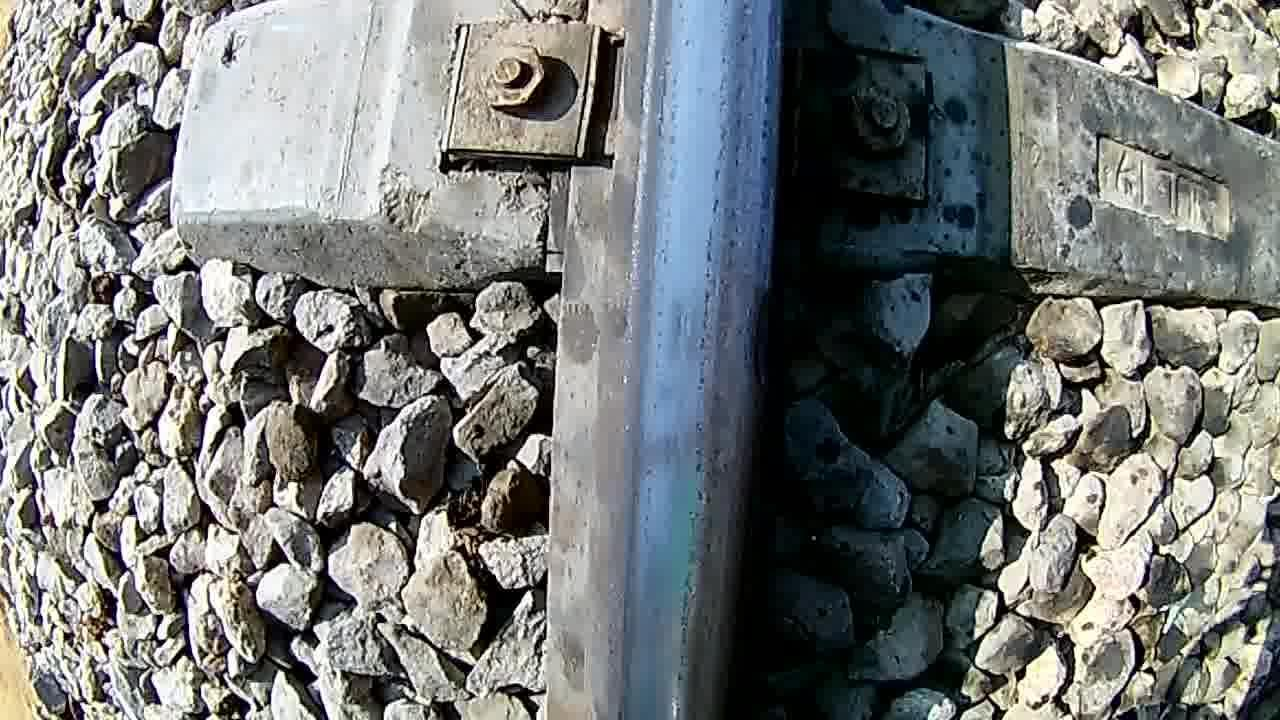crack: (572, 0, 773, 720)
